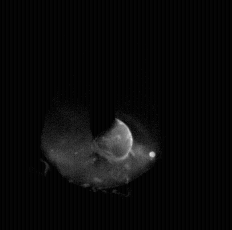arame: (90, 0, 118, 140)
poca: (41, 0, 158, 230)
